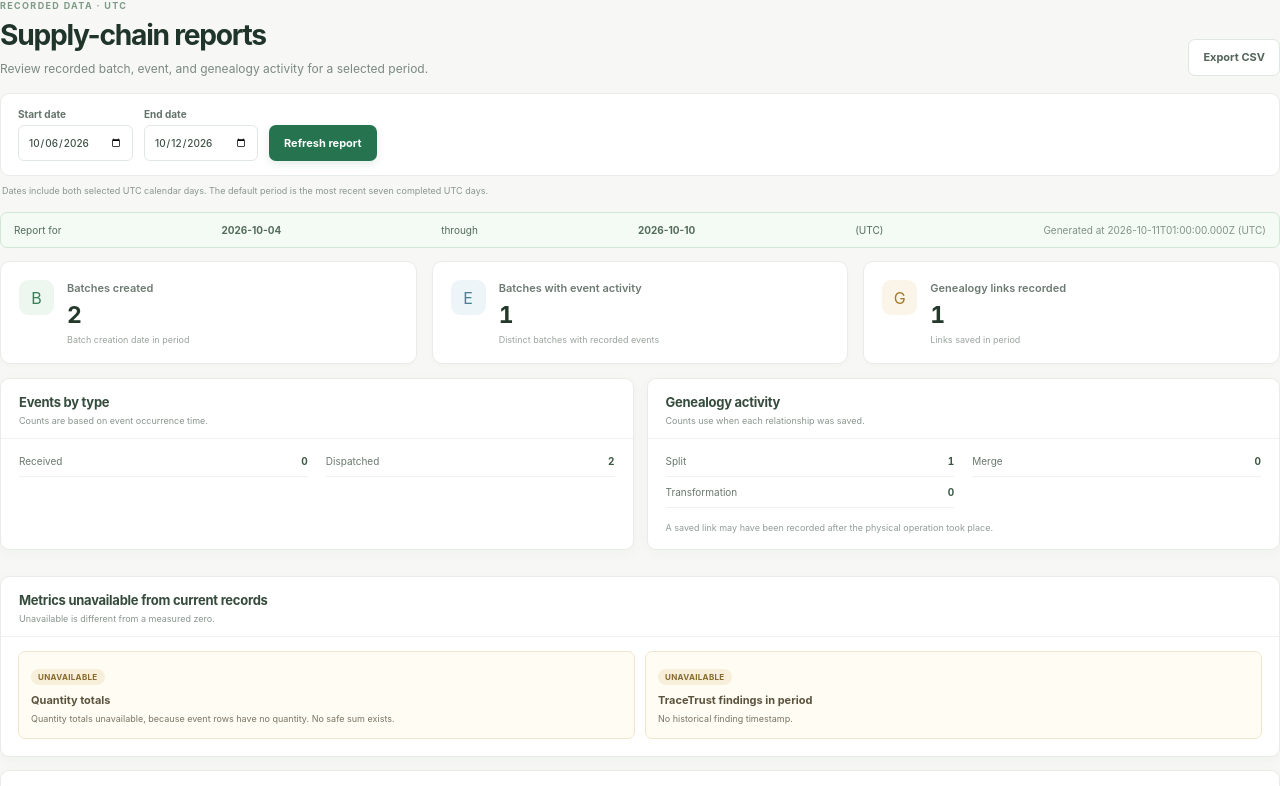
it: ReportsDashboard › rejects an inverted date range locally
Expected: the heading "Events by type" is shown, [19,394,109,410]
Type "2026-10-08" into the date field labelled "Start date".
click(76, 143); type("2026-10-08")  # box [18,125,133,161]
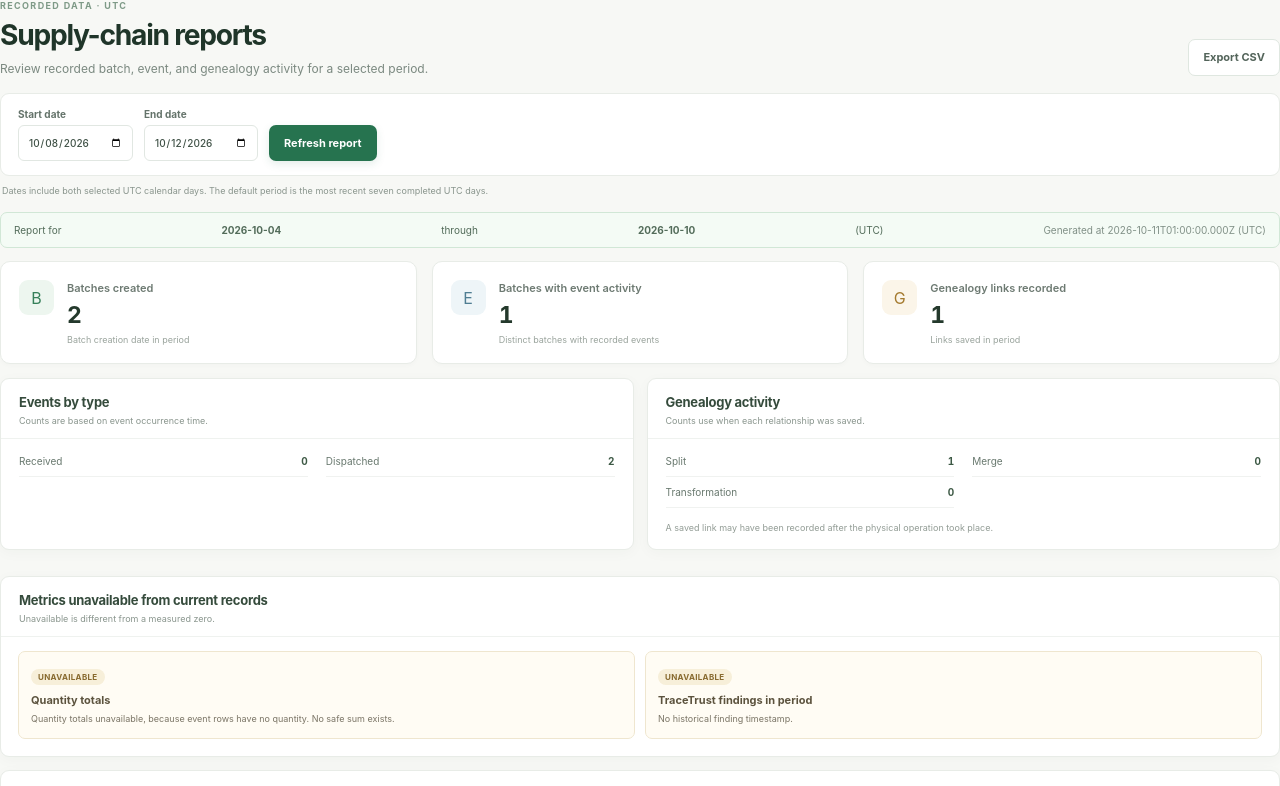
Type "2026-10-07" into the date field labelled "End date".
click(201, 143); type("2026-10-07")  # box [144,125,258,161]
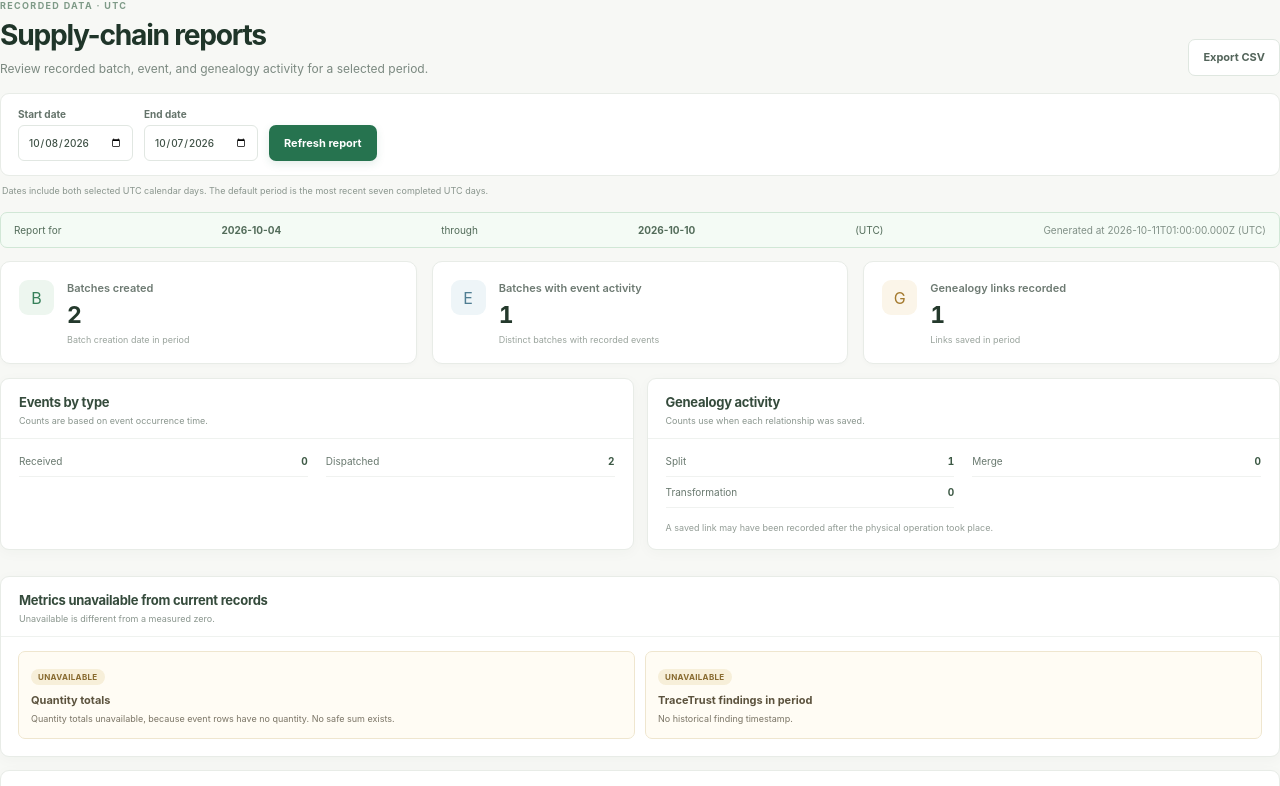
Click the button "Refresh report".
click(323, 143)  # box [269,125,377,161]
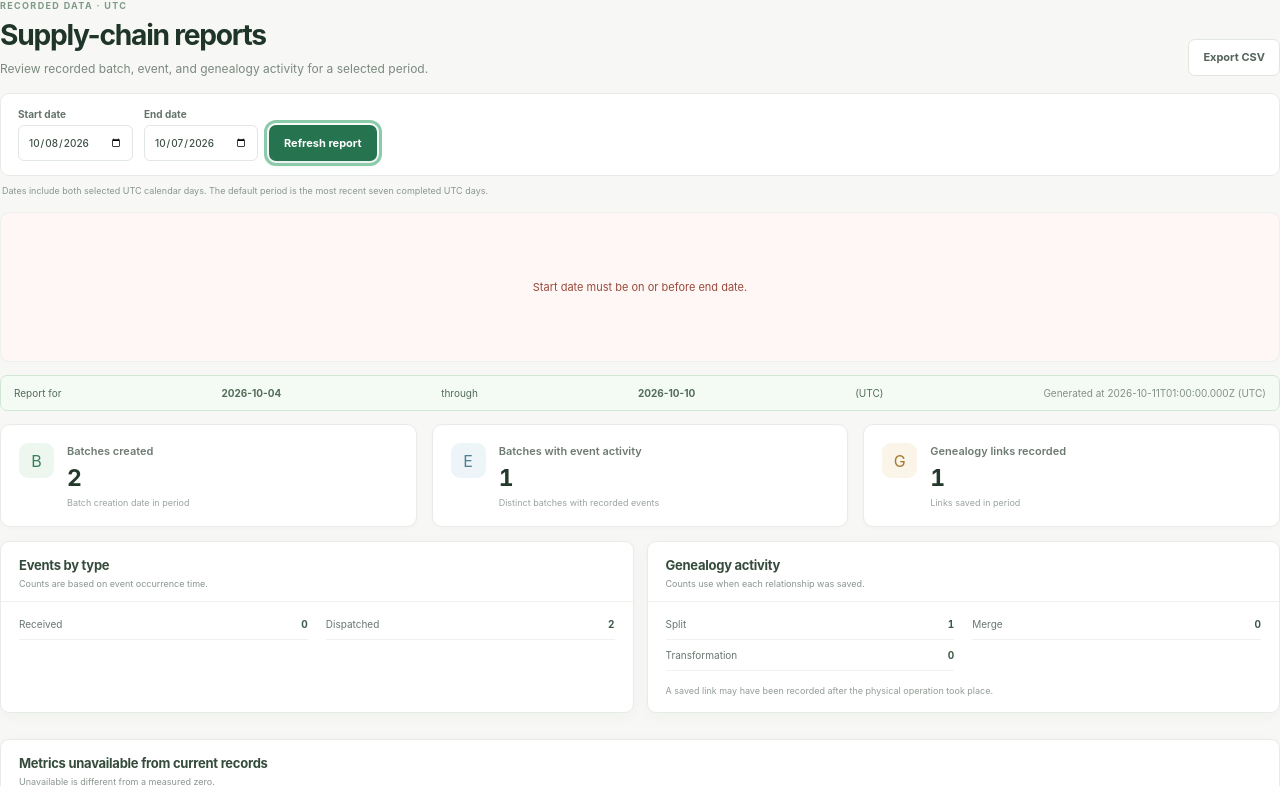
Result: the message "Start date must be on or before end date." is shown at [0,212,1279,362]
